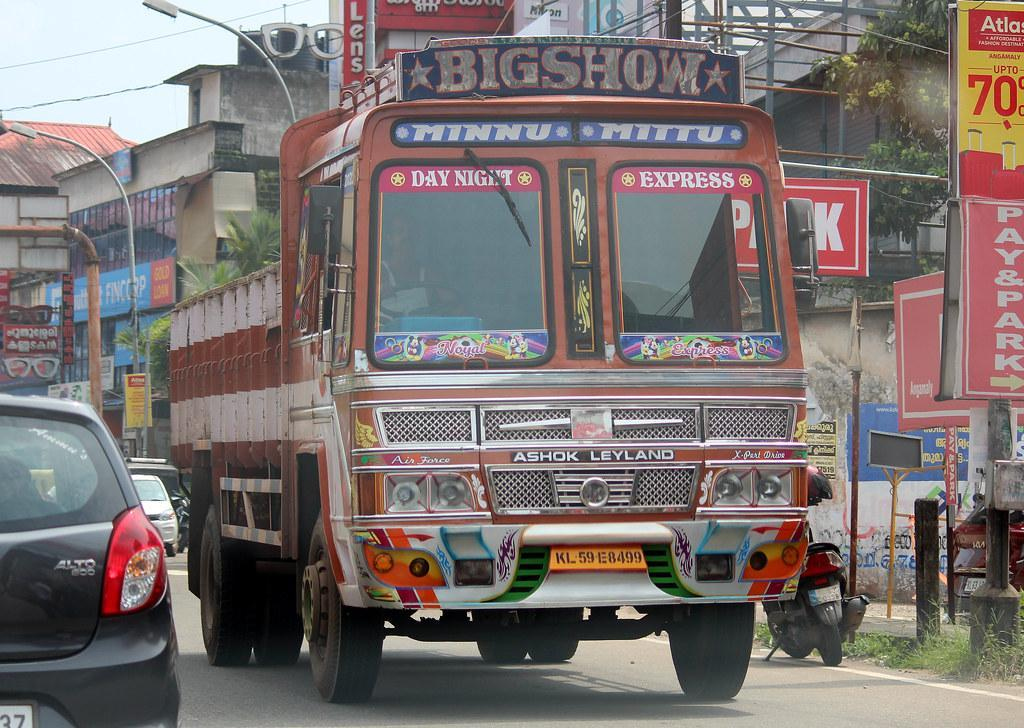truck: (149, 65, 840, 688)
